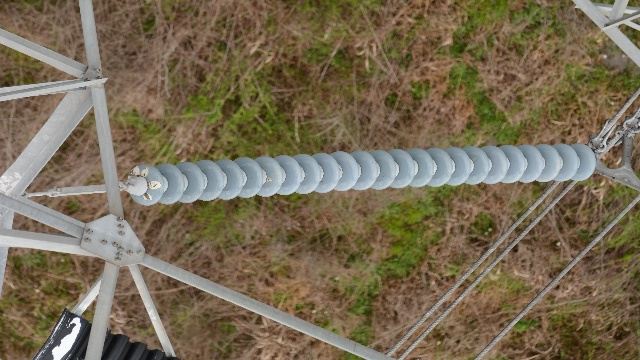insulator_unspecified: (129, 140, 597, 206)
pollution_flashover_local: (126, 164, 150, 180), (146, 181, 163, 190), (144, 193, 153, 201), (266, 177, 273, 184)
